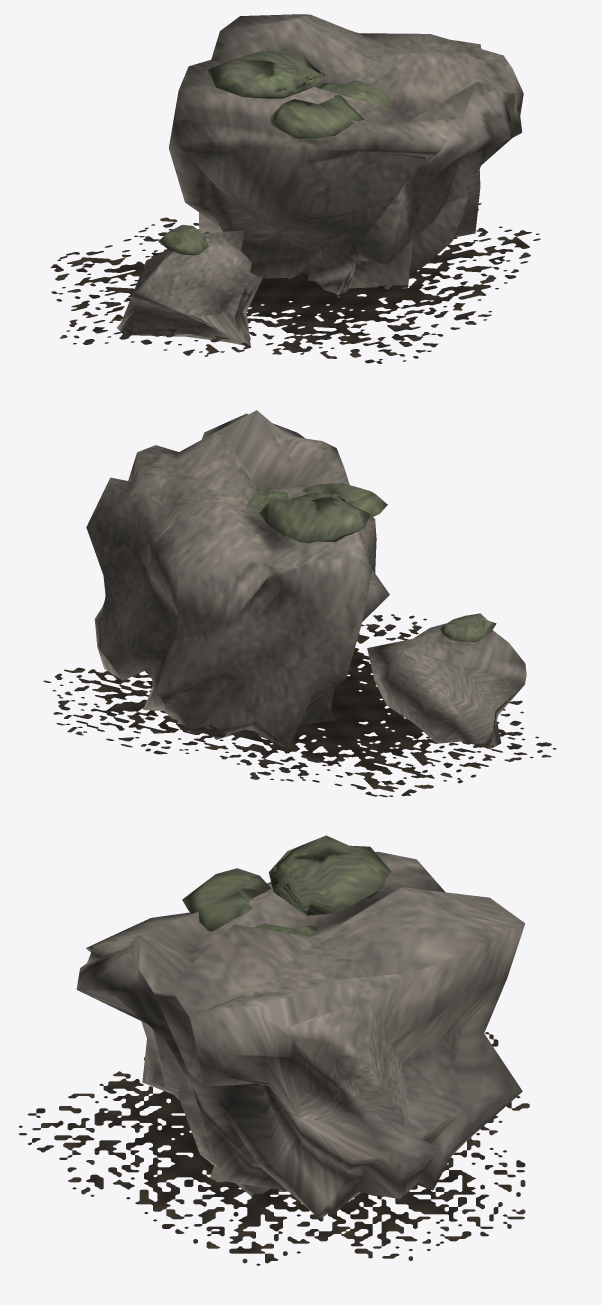
The model's file is boulder_02.glb.
3 renders of one model, top to bottom at view 1: azimuth 30°, elevation 25°; view 2: azimuth 150°, elevation 25°; view 3: azimuth 270°, elevation 25°, orthographic. The views are drawn at different scales.
Parts seen in each view (by area): view 1: boulder_02; view 2: boulder_02; view 3: boulder_02.
Part boxes in pixels (bbox=[...]): boulder_02: bbox=[50, 14, 540, 363]; boulder_02: bbox=[43, 410, 556, 797]; boulder_02: bbox=[18, 835, 529, 1265].
Size of the model in its own units: 2.03 by 0.8323 by 1.56.
2 materials, 2 textured.
